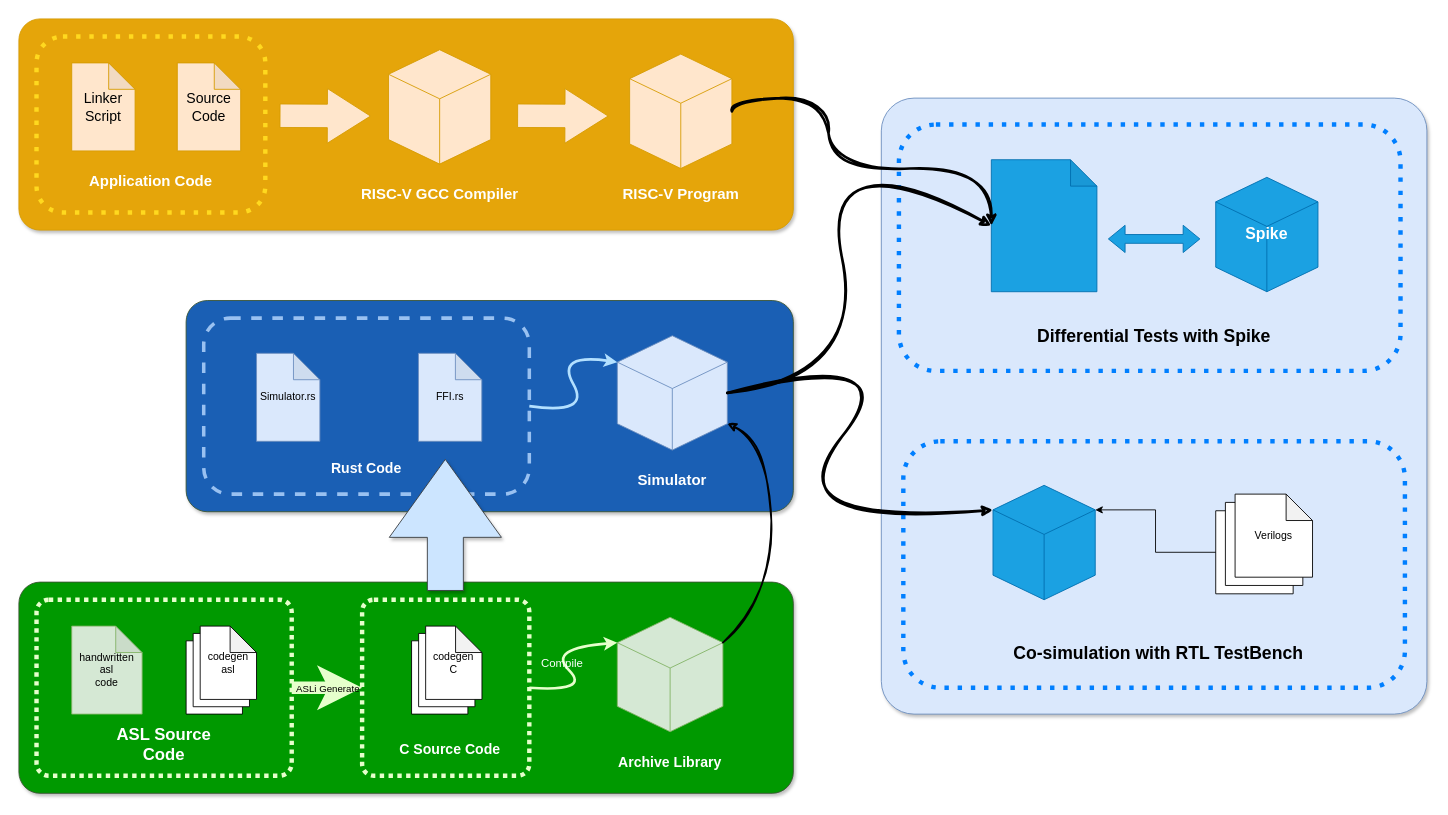
Image size: 1448x815. Some labels were removed from this diagram. Each missing label, with the centre of its shape:
Architecture States Dump: (x=1043, y=225)
TestBench: (x=1043, y=542)
